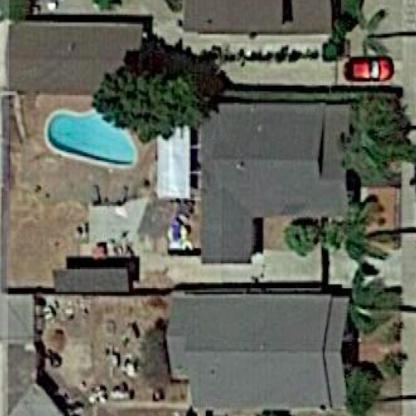car: (342, 48, 395, 84)
swimming_pool: (41, 93, 144, 178)
